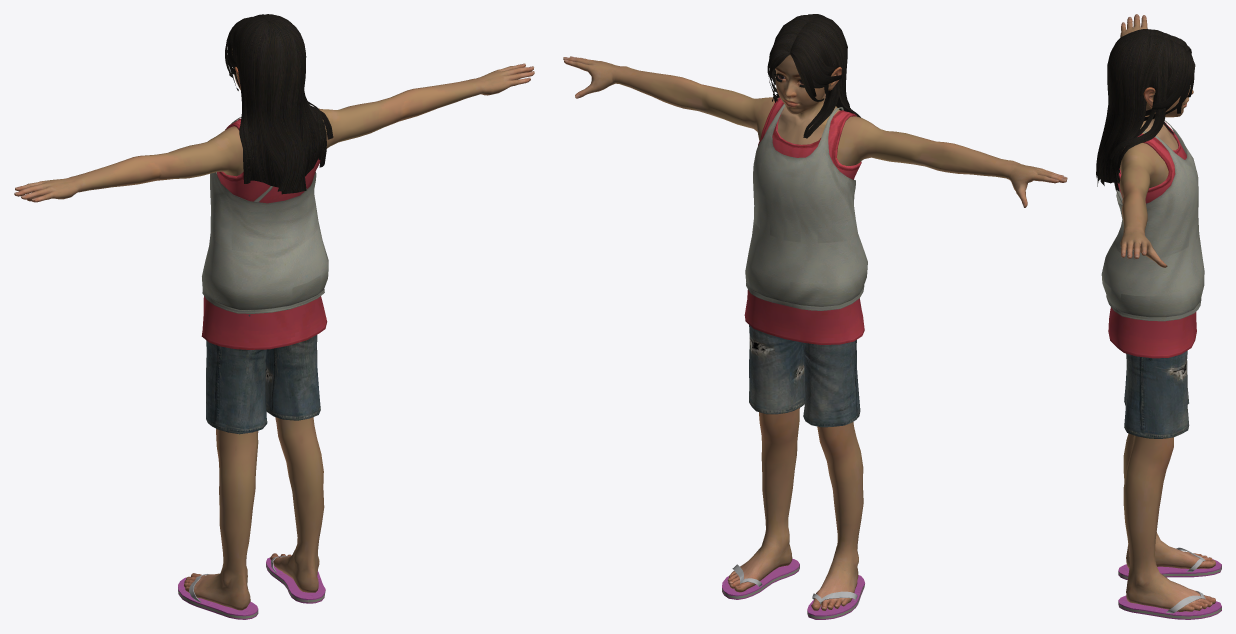
3 renders of one model, left to right at view 1: azimuth 30°, elevation 25°; view 2: azimuth 150°, elevation 25°; view 3: azimuth 270°, elevation 25°, orthographic. The views are drawn at different scales.
Visible parts, largest first — view 1: [l]c_ak_base_body, [l]kyami, [l]haruka_fuku, [l]ns_hair_swing_ura; view 2: [l]c_ak_base_body, [l]kyami, [l]haruka_fuku, [l]ns_hair_swing_ura, [l]haruka12_face3.001; view 3: [l]kyami, [l]c_ak_base_body, [l]haruka_fuku, [l]ns_hair_swing_ura, [l]haruka12_face3.001.
Boxes of the visible parts, x1,y1,x2,y2 form: [l]c_ak_base_body: [14, 63, 534, 610]; [l]kyami: [178, 117, 328, 619]; [l]haruka_fuku: [201, 118, 327, 434]; [l]ns_hair_swing_ura: [225, 14, 333, 194]; [l]c_ak_base_body: [563, 56, 1067, 610]; [l]kyami: [722, 104, 867, 619]; [l]haruka_fuku: [744, 97, 864, 427]; [l]ns_hair_swing_ura: [767, 14, 860, 138]; [l]haruka12_face3.001: [775, 54, 841, 144]; [l]kyami: [1101, 120, 1221, 619]; [l]c_ak_base_body: [1119, 14, 1215, 611]; [l]haruka_fuku: [1108, 122, 1196, 438]; [l]ns_hair_swing_ura: [1096, 29, 1195, 191]; [l]haruka12_face3.001: [1140, 87, 1193, 150].
Size of the model in its own units: 1.24 by 1.33 by 0.272.
Materials: 8 (8 with a texture image).
